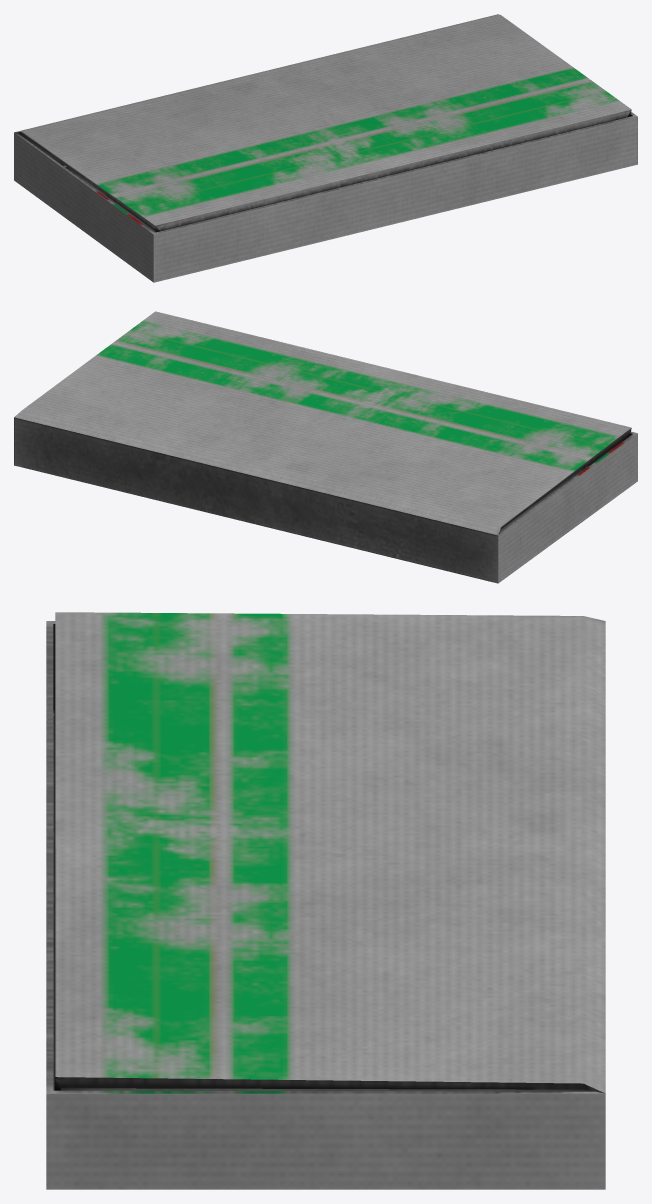
File: props_4.fbx
3 views of the same model, one above another, from view 1: azimuth 30°, elevation 25°; view 2: azimuth 150°, elevation 25°; view 3: azimuth 270°, elevation 25° (orthographic). The views are drawn at different scales.
Parts seen in each view (by area): view 1: props_4; view 2: props_4; view 3: props_4.
Boxes of the visible parts, x1,y1,x2,y2 form: props_4: (14,14,637,282); props_4: (14,311,637,583); props_4: (46,612,605,1189).
Bounding box in the file's own units: 20 × 2.15 × 10.
